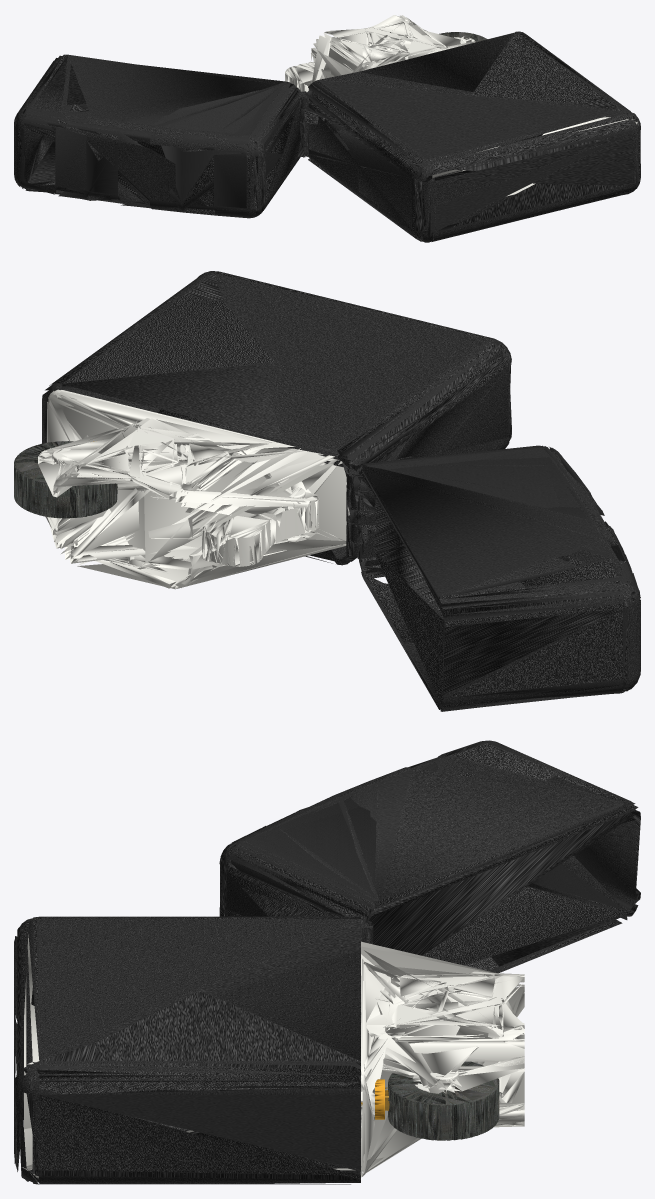
File: Feuerzeug8.glb
The picture shows the model from 3 angles, top to bottom: view 1: azimuth 30°, elevation 25°; view 2: azimuth 150°, elevation 25°; view 3: azimuth 270°, elevation 25°; orthographic projection. The views are drawn at different scales.
Parts seen in each view (by area): view 1: Volumenkörper1_1, Volumenkörper1, Volumenkörper1_6, Volumenkörper1_13, Volumenkörper1_10, Volumenkörper1_9; view 2: Volumenkörper1, Volumenkörper1_1, Volumenkörper1_6, Volumenkörper1_13, Volumenkörper2, Volumenkörper1_9, Volumenkörper1_10; view 3: Volumenkörper1_1, Volumenkörper1, Volumenkörper1_6, Volumenkörper2.
Part boxes in pixels (bbox=[...]): Volumenkörper1_1: bbox=[304, 31, 640, 242]; Volumenkörper1: bbox=[14, 54, 301, 218]; Volumenkörper1_6: bbox=[310, 15, 637, 196]; Volumenkörper1_13: bbox=[285, 62, 314, 92]; Volumenkörper1_10: bbox=[300, 105, 344, 146]; Volumenkörper1_9: bbox=[208, 91, 308, 210]; Volumenkörper1: bbox=[358, 445, 640, 711]; Volumenkörper1_1: bbox=[42, 271, 511, 565]; Volumenkörper1_6: bbox=[38, 389, 349, 589]; Volumenkörper1_13: bbox=[202, 497, 319, 566]; Volumenkörper2: bbox=[14, 441, 117, 518]; Volumenkörper1_9: bbox=[346, 468, 376, 558]; Volumenkörper1_10: bbox=[346, 441, 406, 543]; Volumenkörper1_1: bbox=[14, 916, 360, 1184]; Volumenkörper1: bbox=[219, 740, 640, 973]; Volumenkörper1_6: bbox=[24, 934, 524, 1177]; Volumenkörper2: bbox=[388, 1061, 499, 1140].
Size of the model in its own units: 0.0796 by 0.0132 by 0.062.
Materials: 17 (6 with a texture image).
